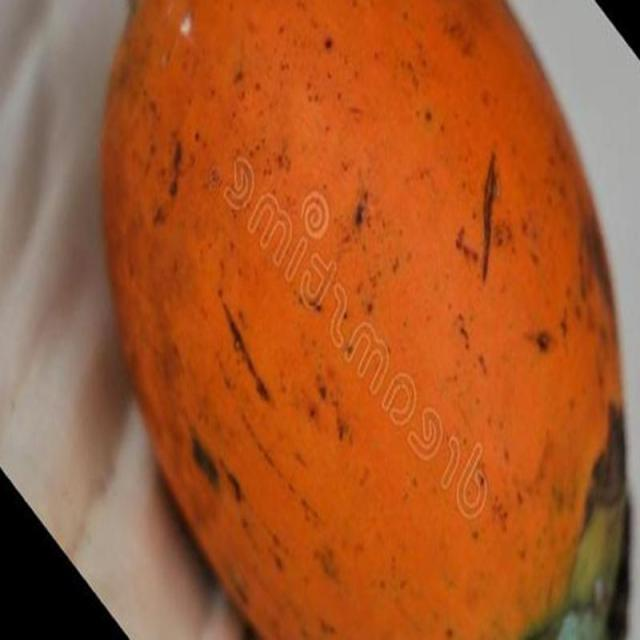good: (99, 0, 630, 639)
